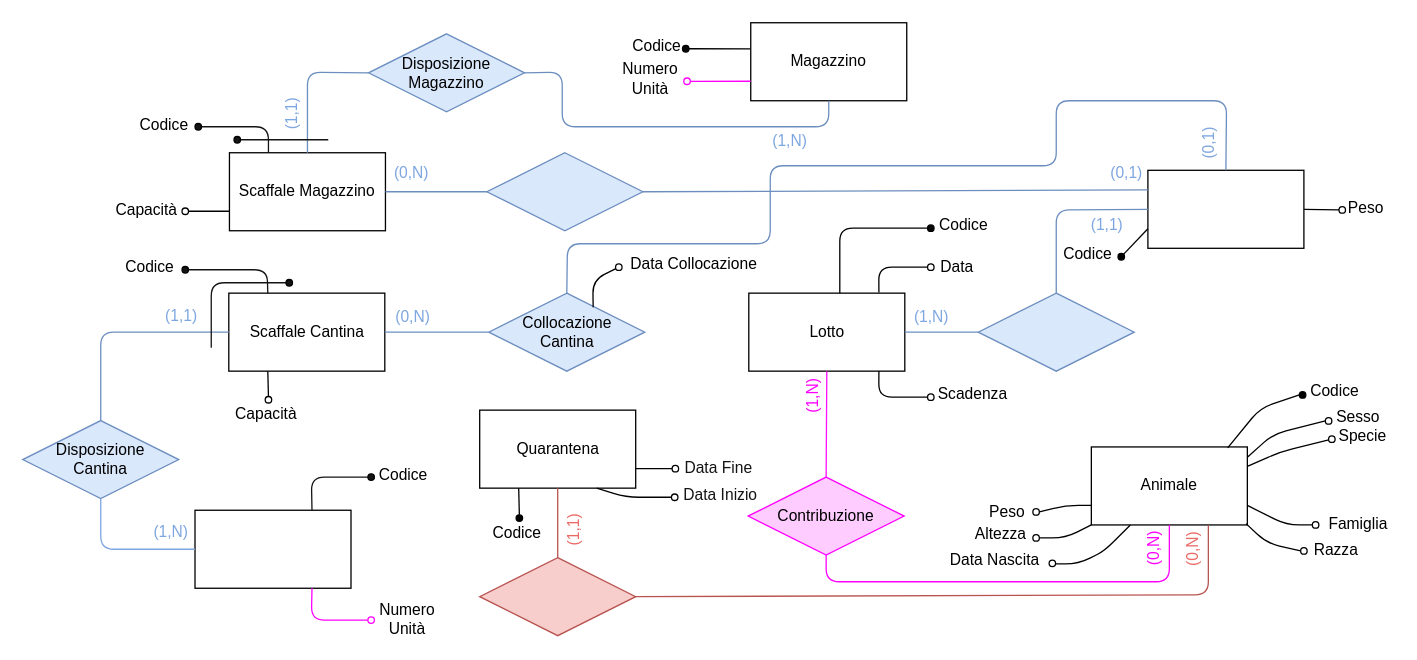
The diagram is 1417 pixels wide and 660 high, and some of its shapes have lost their labels. Each missing label, with the centre of its shape:
"Cantina" goes at (x=272, y=548).
"Collocazione Magazzino" goes at (x=564, y=191).
"Inserimento" goes at (x=557, y=596).
"Produzione" goes at (x=1055, y=331).
"Unità Prodotto" goes at (x=1225, y=208).
